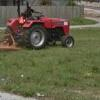Tractor: (4, 3, 88, 59)
